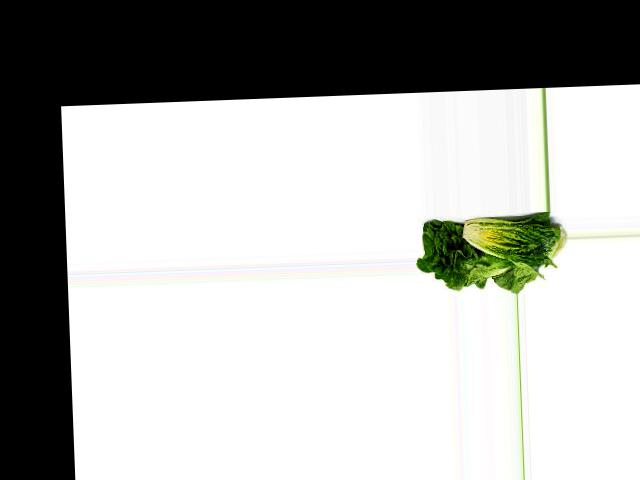lettuce: (417, 212, 508, 291)
